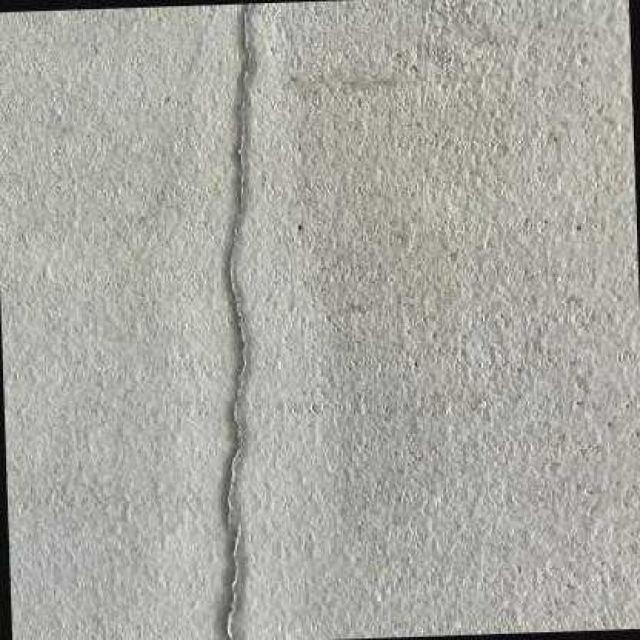D00: (226, 2, 249, 529), (226, 525, 239, 640)
